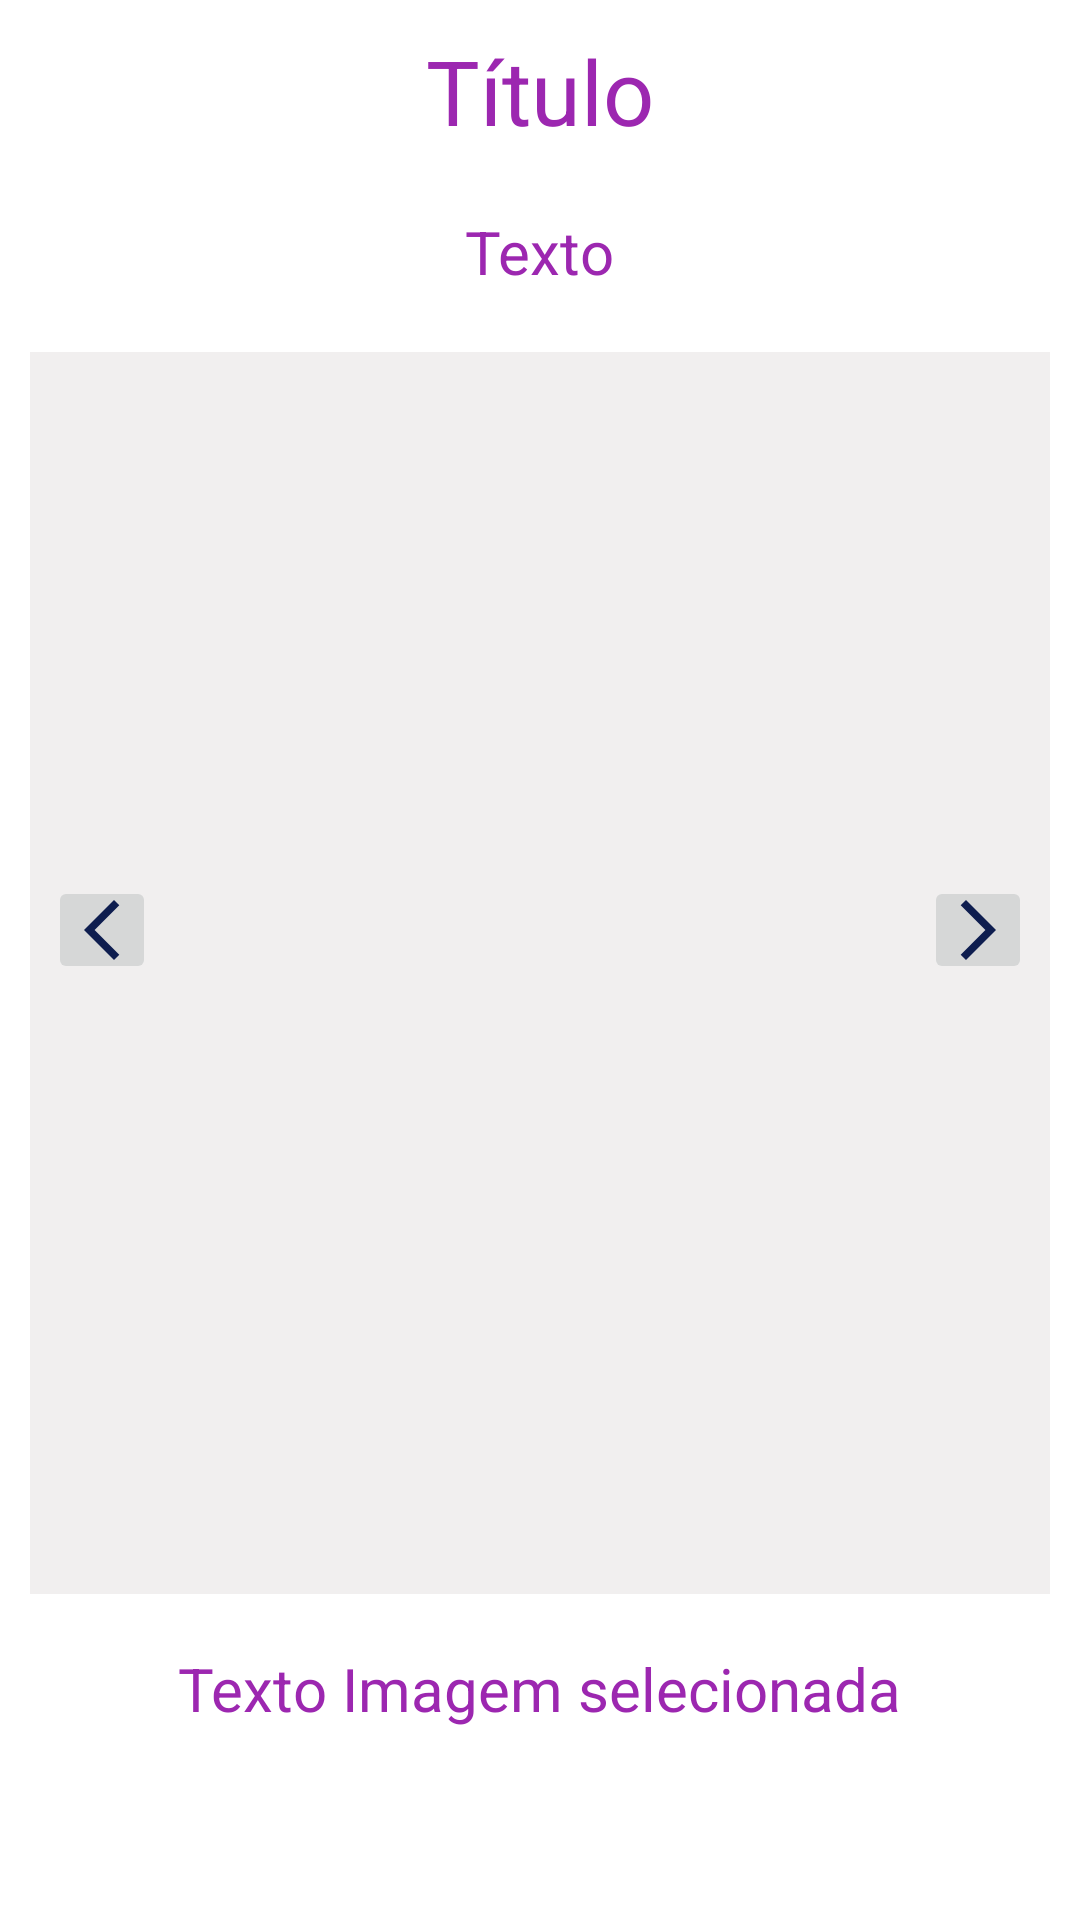

Screen size 1080×1920. Icon name, then its box in pixels as (x1, y1, x2, y2):
arrow back: (60, 894, 144, 966)
arrow forward: (936, 894, 1020, 966)
